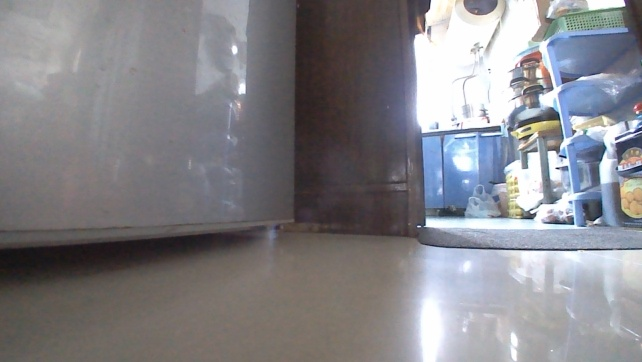blanket: (413, 220, 641, 253)
cupboard: (418, 123, 518, 218)
